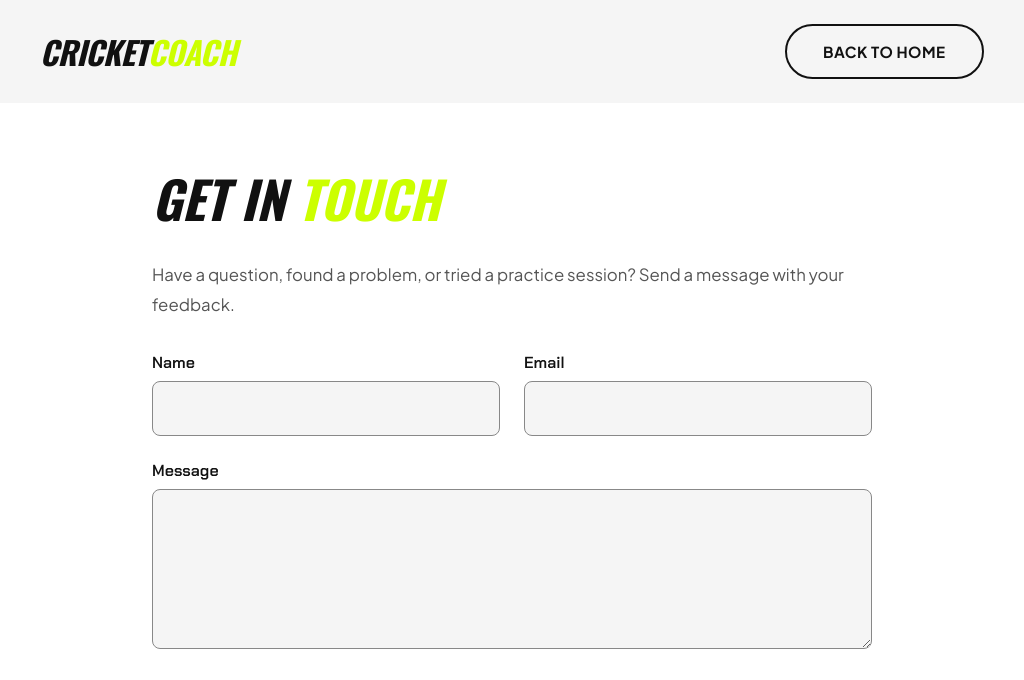
contact form › clears a message only after delivery is acknowledged
This screenshot has width=1024, height=680.
Step 1. Type "Test visitor" into the field labelled "Name" → (326, 409), box [152,382,500,436]
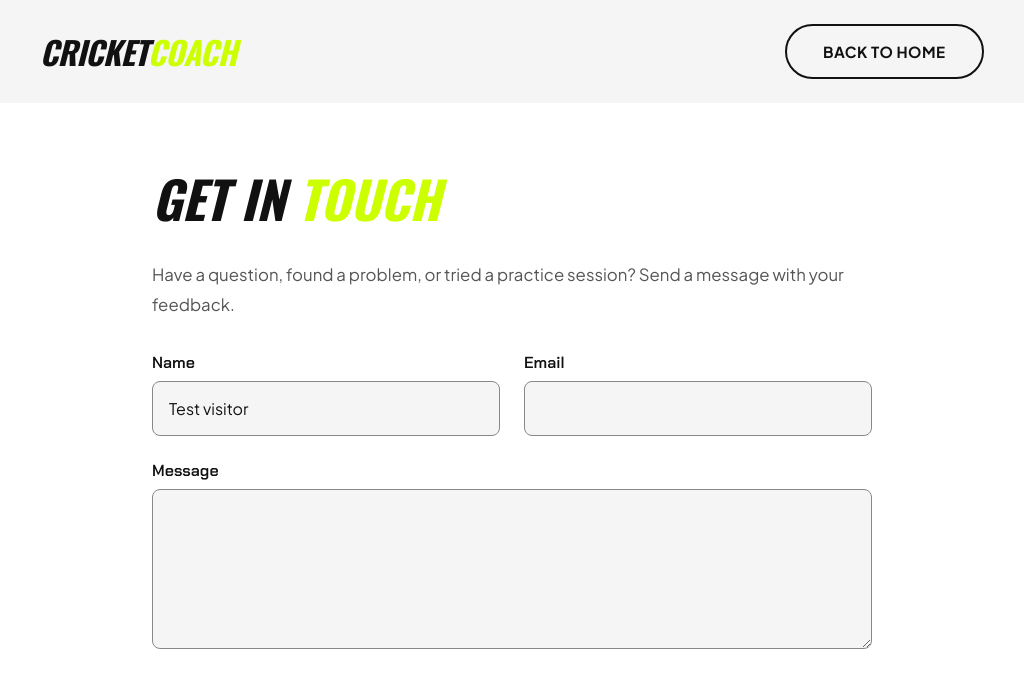
Step 2. Type "visitor@example.com" into the field labelled "Email" → (698, 409), box [524,382,872,436]
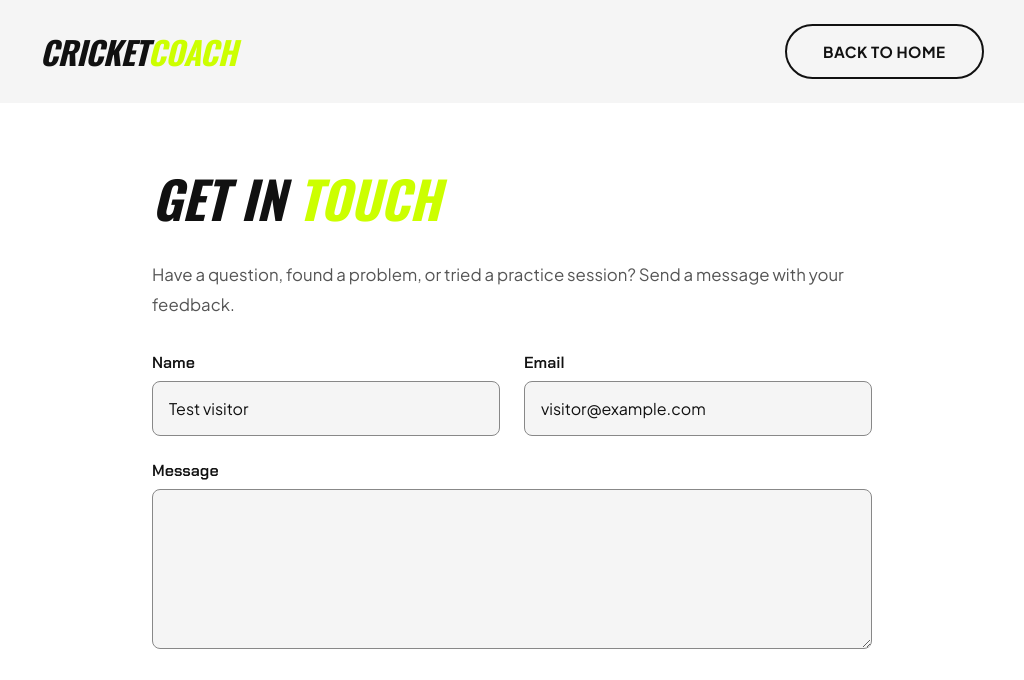
Step 3. Type "The camera feedback is useful." into the text box labelled "Message" → (512, 570), box [152,490,872,650]
(page scrolled)
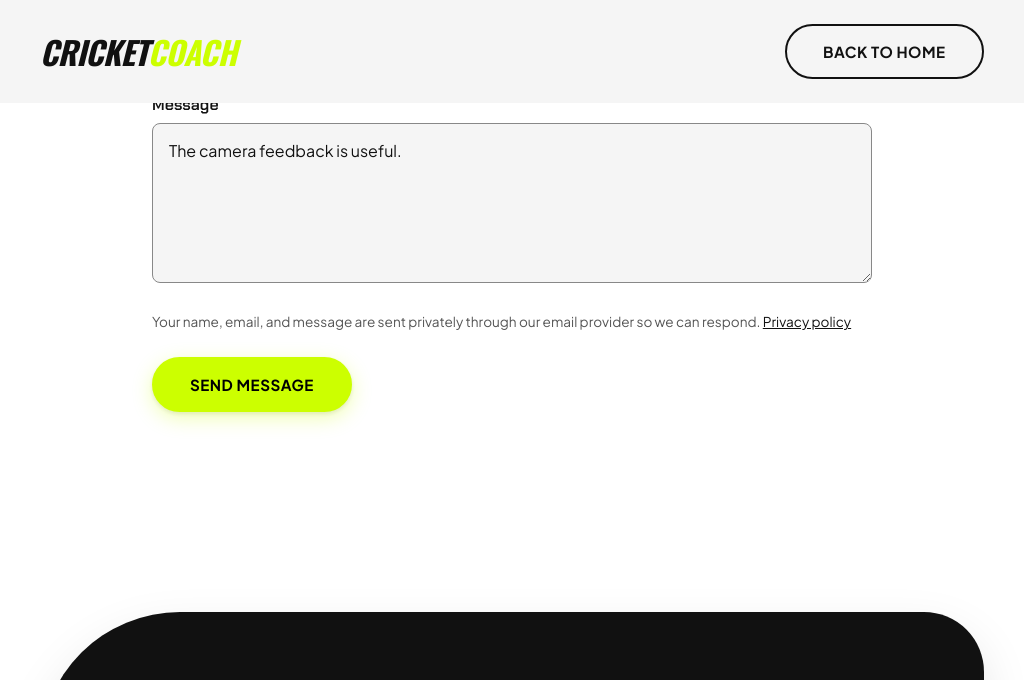
Step 4. Click the button "Send message" → (252, 385), box [152,357,352,412]
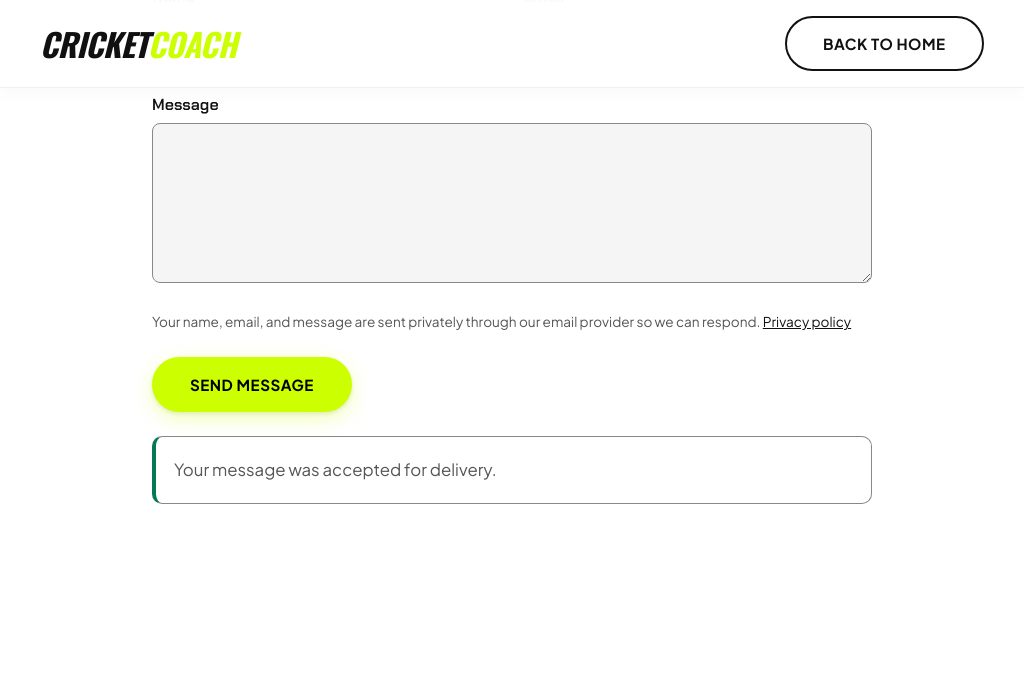
Result: the text "Your message was accepted for delivery." is shown at [152,436,872,504]
Result: the text box labelled "Message" is empty at [152,124,872,284]
Result: the field labelled "Email" is empty at [524,16,872,70]
